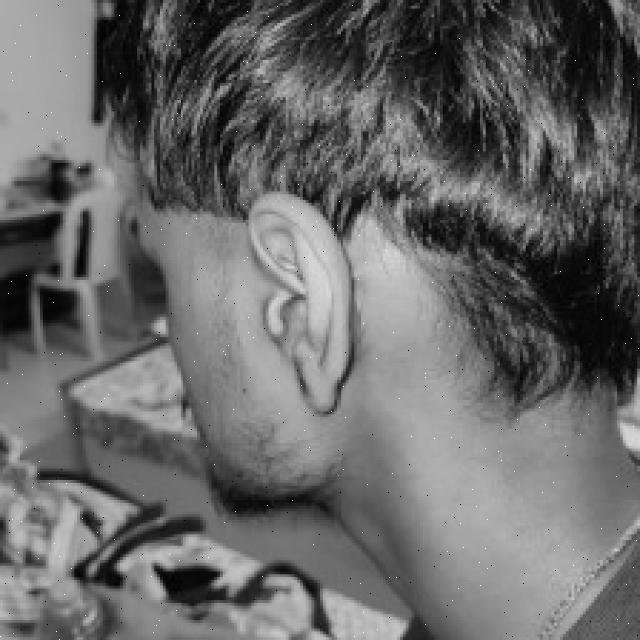ear: (246, 191, 346, 406)
